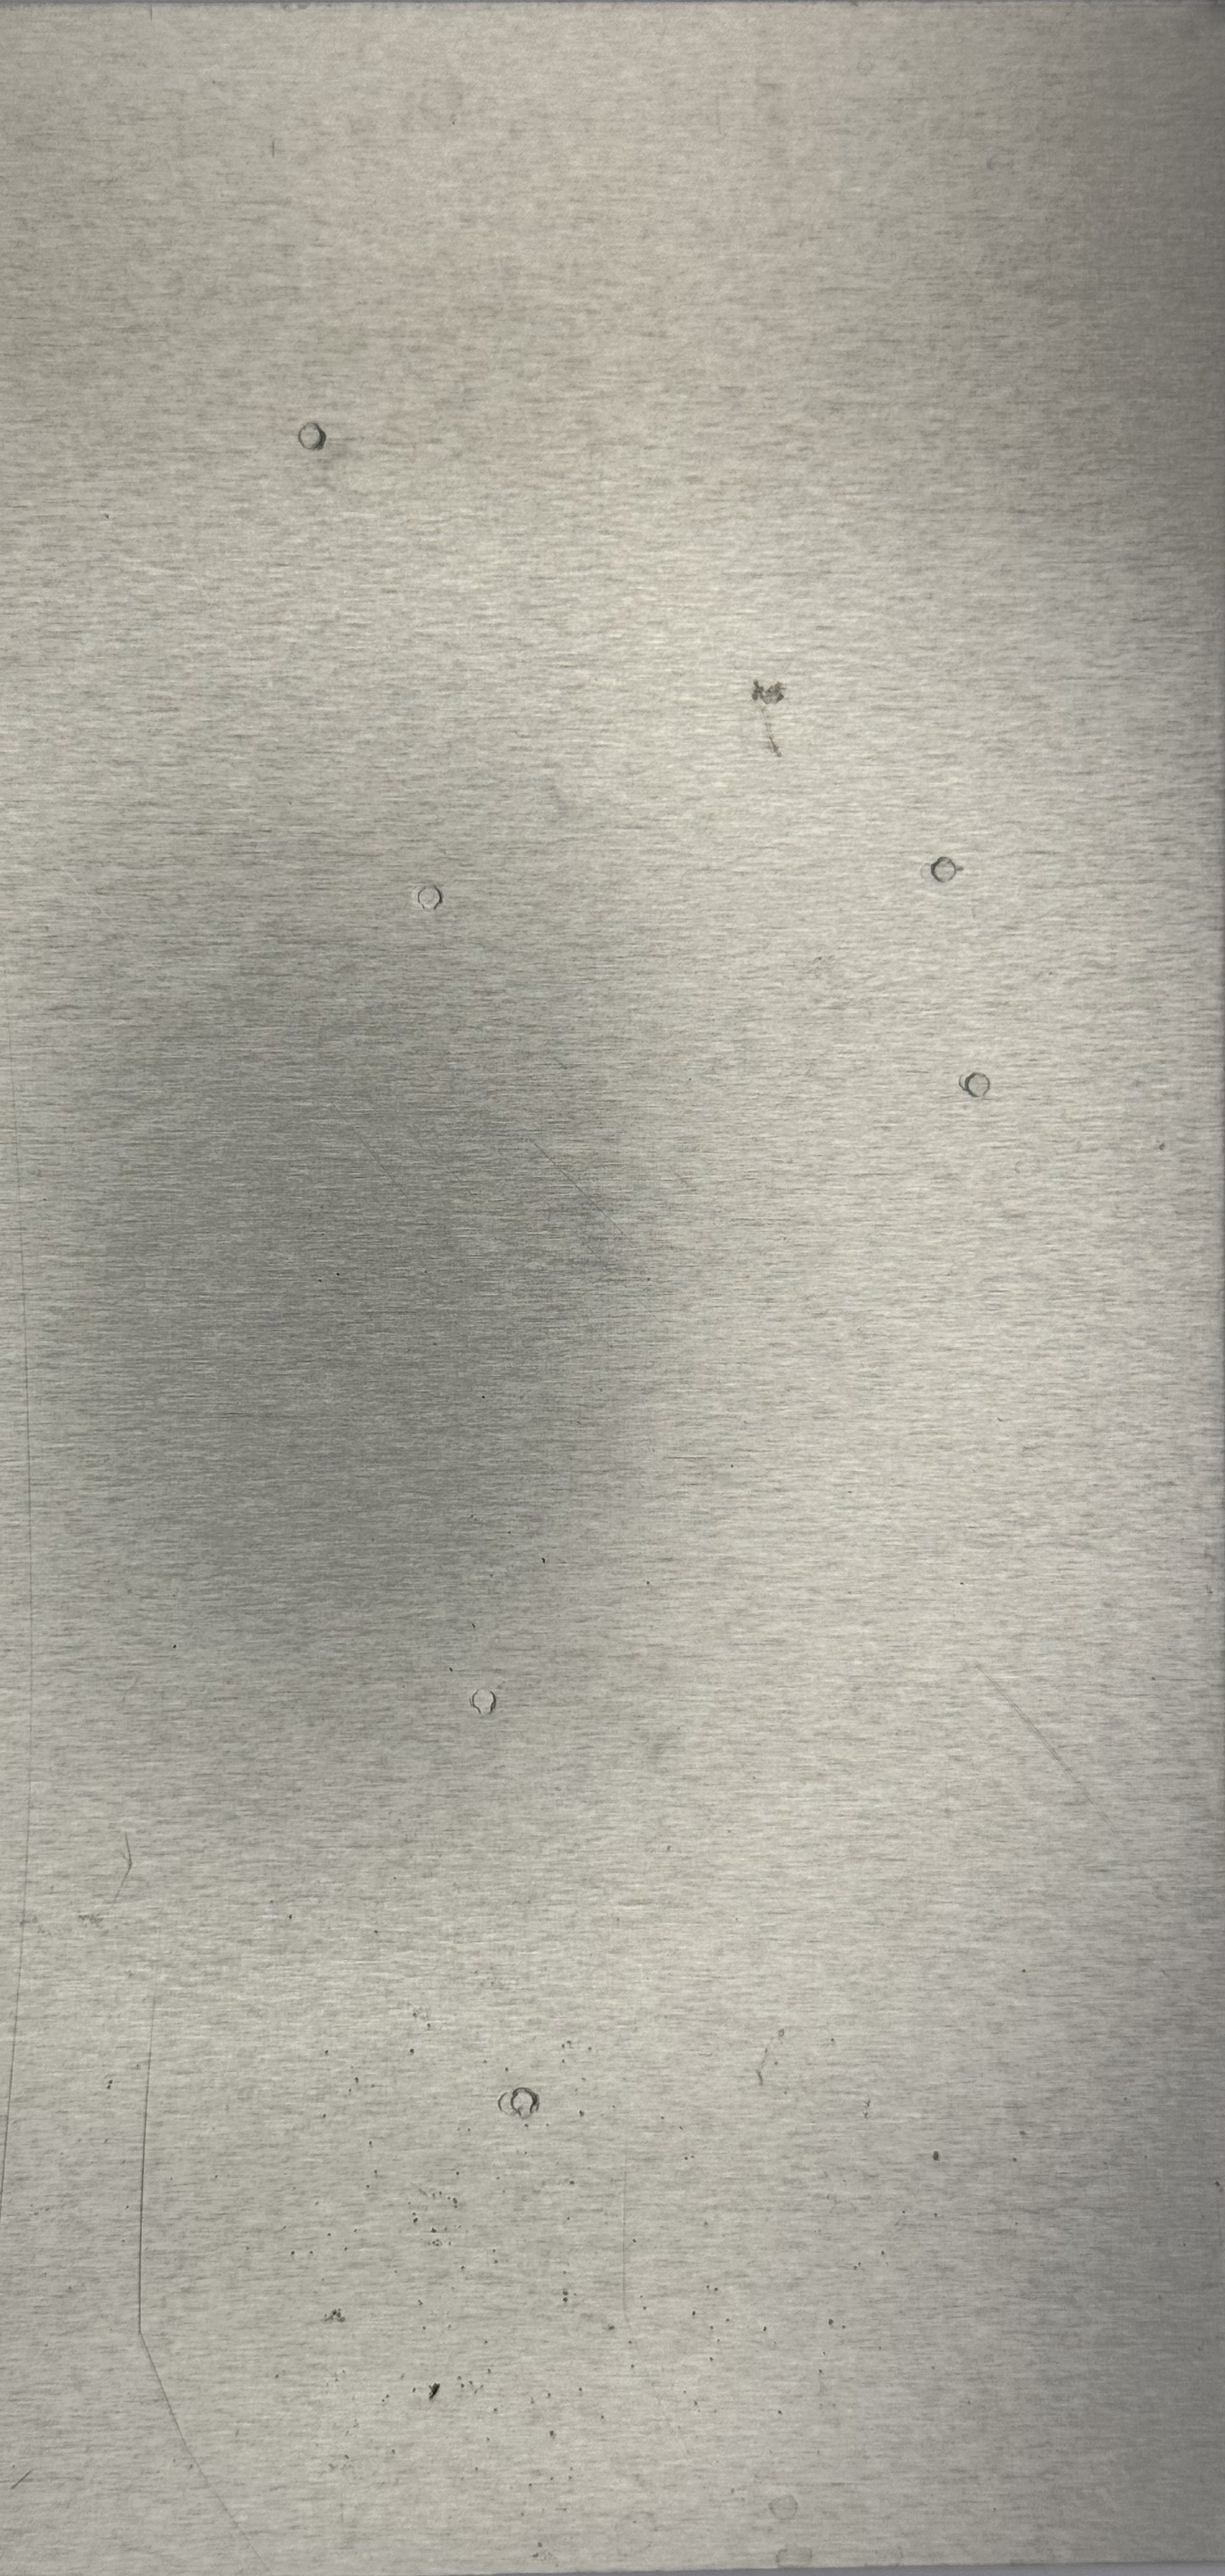Delle: (736, 674, 805, 772), (483, 2072, 558, 2142), (452, 1672, 521, 1735), (906, 841, 977, 897), (946, 1060, 1008, 1114), (284, 407, 342, 463), (401, 871, 458, 922)
